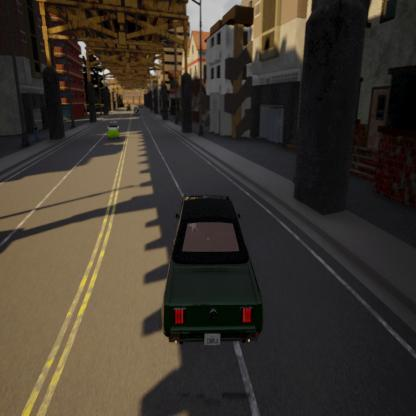Cars: (164, 196, 262, 345), (108, 121, 119, 138), (134, 106, 138, 115), (126, 103, 131, 110)
Pedestrian: (34, 123, 38, 140)
